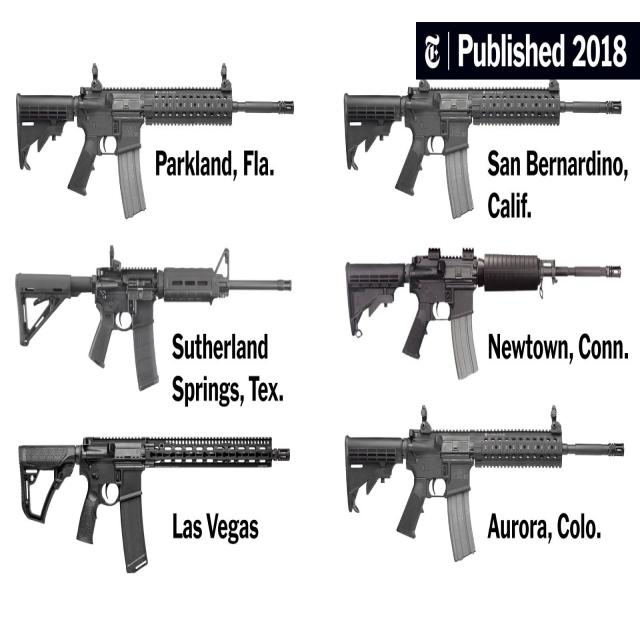Rifle: (15, 65, 295, 220), (343, 419, 626, 563), (14, 249, 293, 392), (17, 437, 290, 575), (345, 85, 626, 219), (346, 251, 624, 377)
